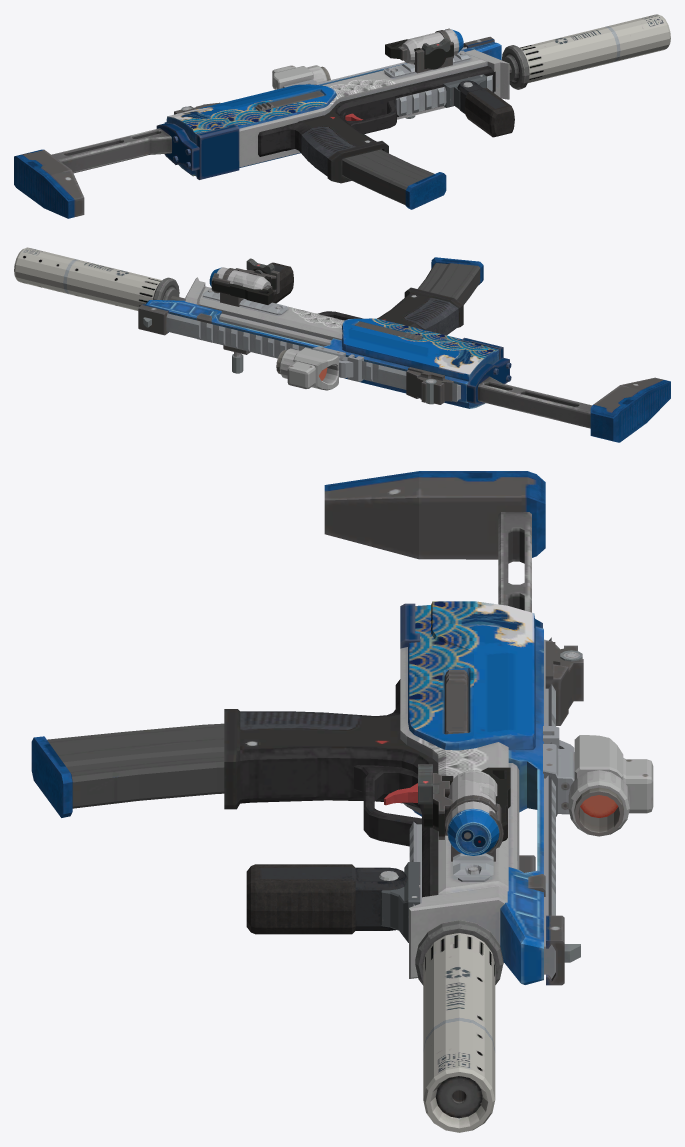
The picture shows the model from 3 angles, top to bottom: view 1: azimuth 30°, elevation 25°; view 2: azimuth 150°, elevation 25°; view 3: azimuth 270°, elevation 25°; orthographic projection. The views are drawn at different scales.
Visible parts, largest first — view 1: wp01c_a001a_sm.mo, wp01c_muzzle001a_sm.mo, wp01c_magazine001a_sm.mo, wp01c_attach001a_sm.mo, wp01c_scope001a_sm.mo; view 2: wp01c_a001a_sm.mo, wp01c_muzzle001a_sm.mo, wp01c_scope001a_sm.mo, wp01c_attach001a_sm.mo, wp01c_magazine001a_sm.mo; view 3: wp01c_a001a_sm.mo, wp01c_muzzle001a_sm.mo, wp01c_magazine001a_sm.mo, wp01c_scope001a_sm.mo, wp01c_attach001a_sm.mo.
Part boxes in pixels (x1,y1,x2,y2): wp01c_a001a_sm.mo: (14, 36, 514, 218); wp01c_muzzle001a_sm.mo: (502, 14, 670, 89); wp01c_magazine001a_sm.mo: (342, 149, 446, 209); wp01c_attach001a_sm.mo: (385, 28, 463, 73); wp01c_scope001a_sm.mo: (272, 65, 330, 89); wp01c_a001a_sm.mo: (138, 262, 670, 442); wp01c_muzzle001a_sm.mo: (14, 247, 179, 310); wp01c_scope001a_sm.mo: (276, 346, 363, 390); wp01c_attach001a_sm.mo: (209, 258, 279, 306); wp01c_magazine001a_sm.mo: (418, 257, 483, 304); wp01c_a001a_sm.mo: (224, 471, 583, 985); wp01c_muzzle001a_sm.mo: (415, 920, 503, 1132); wp01c_magazine001a_sm.mo: (31, 723, 224, 817); wp01c_scope001a_sm.mo: (543, 726, 653, 836); wp01c_attach001a_sm.mo: (418, 764, 510, 861).
Bounding box in the file's own units: 0.6715 × 0.0945 × 0.2938.
Materials: 6 (6 with a texture image).
